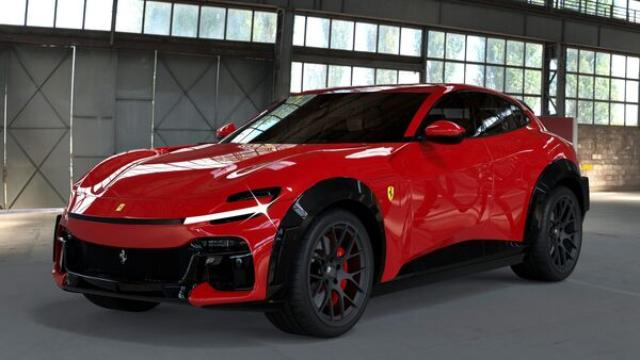ferrari: (51, 83, 591, 339)
